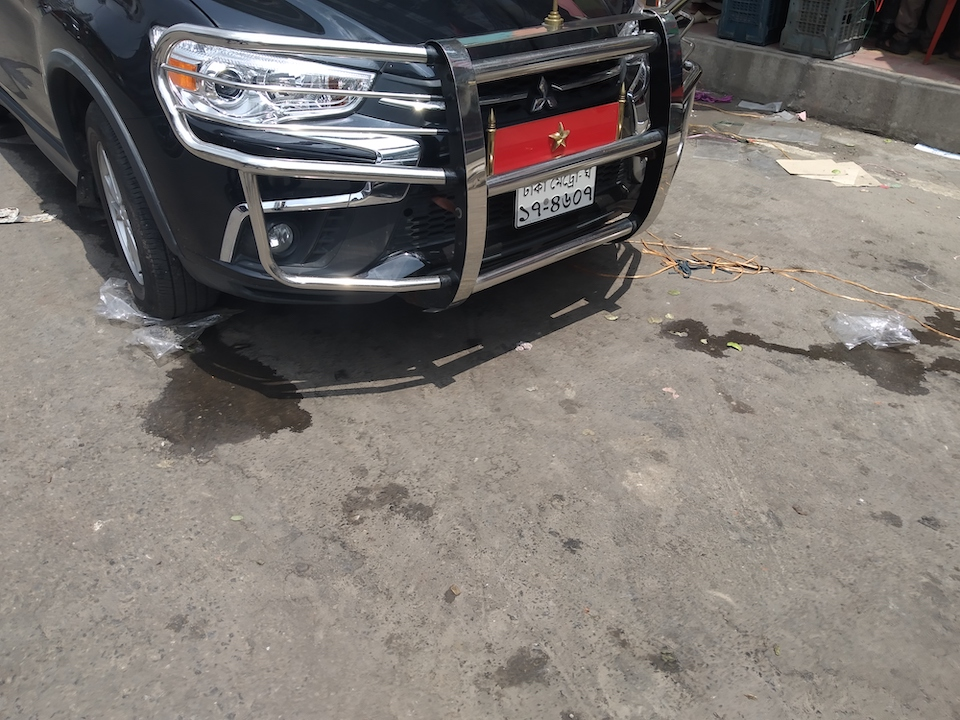registration_plate: (515, 165, 597, 230)
